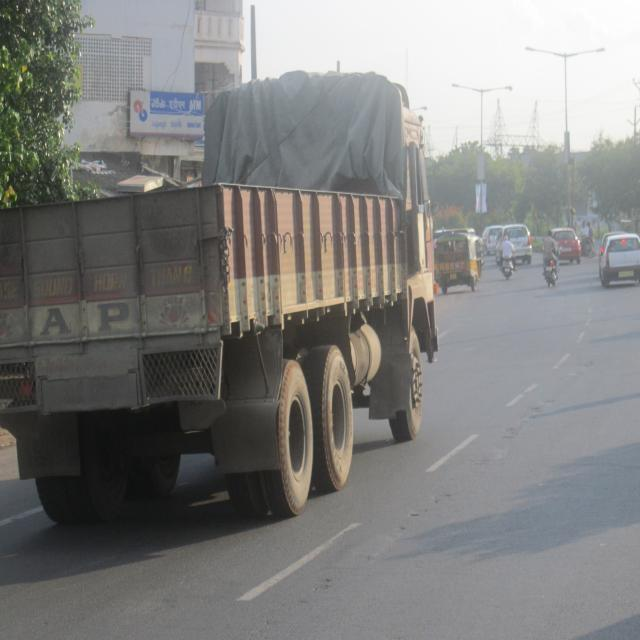auto_back: (432, 230, 480, 292)
car_back: (597, 231, 640, 298)
truck_back: (0, 66, 443, 522)
two_wheeler_back: (538, 245, 564, 288)
